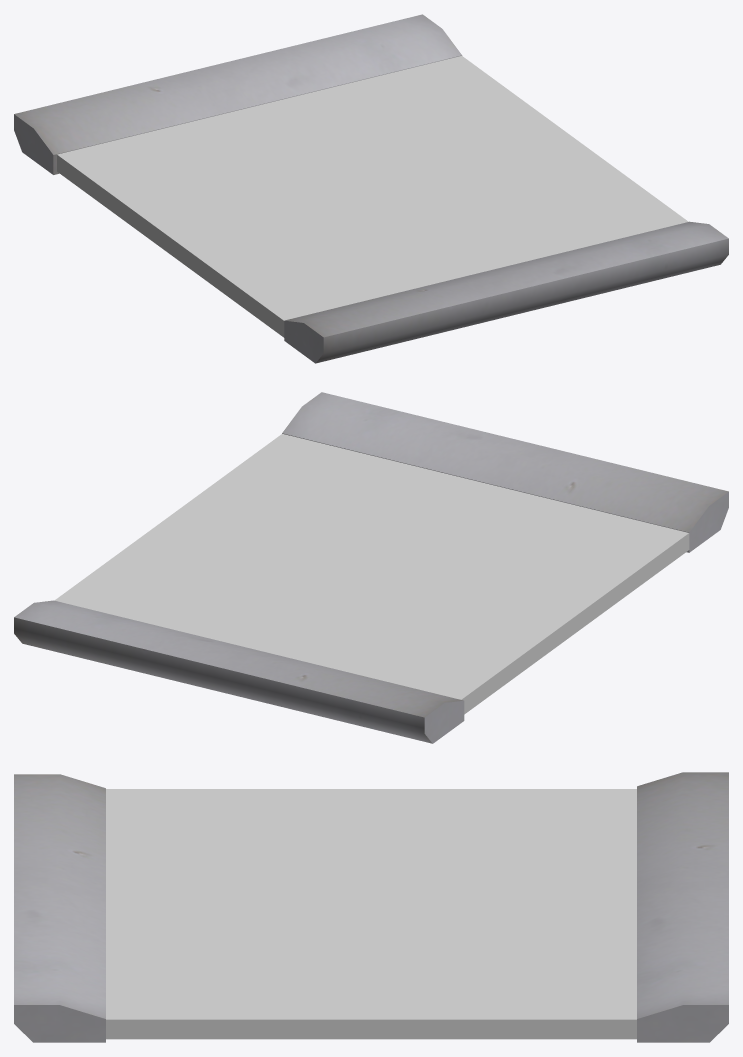
Rendered from bob_roof_plain.FBX.
3 renders of one model, top to bottom at view 1: azimuth 30°, elevation 25°; view 2: azimuth 150°, elevation 25°; view 3: azimuth 270°, elevation 25°, orthographic. The views are drawn at different scales.
Visible parts, largest first — view 1: roof_plain; view 2: roof_plain; view 3: roof_plain.
Part boxes in pixels (<box>): roof_plain: <box>14,14,728,363</box>; roof_plain: <box>14,392,728,743</box>; roof_plain: <box>14,772,728,1042</box>.
Bounding box in the file's own units: 505 × 37.99 × 655.
1 material, 1 textured.
